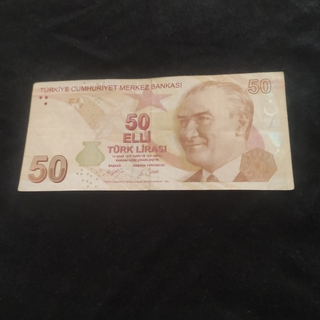50TLFront: (17, 70, 295, 191)
